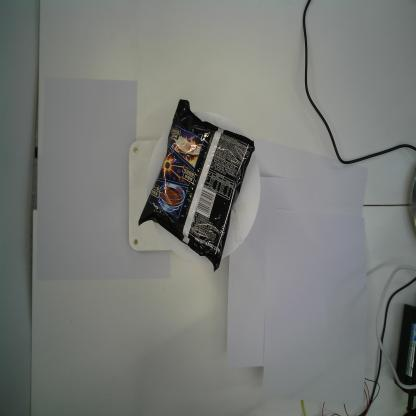Instant Noodles: (138, 96, 257, 272)
